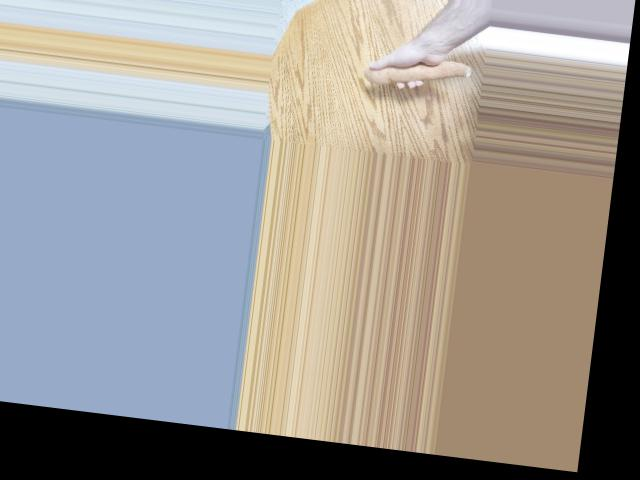sweet_potato: (363, 46, 477, 97)
